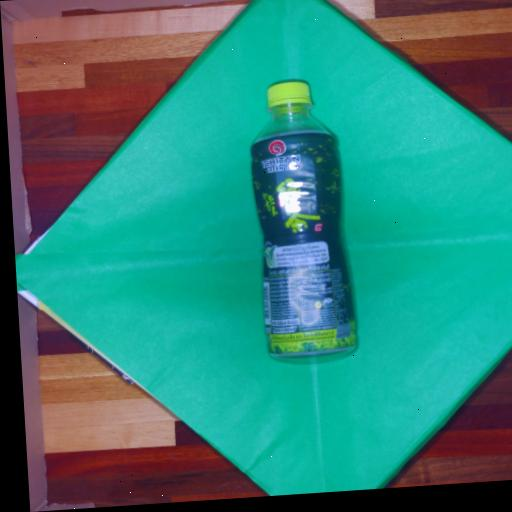bottle: (252, 81, 356, 357)
